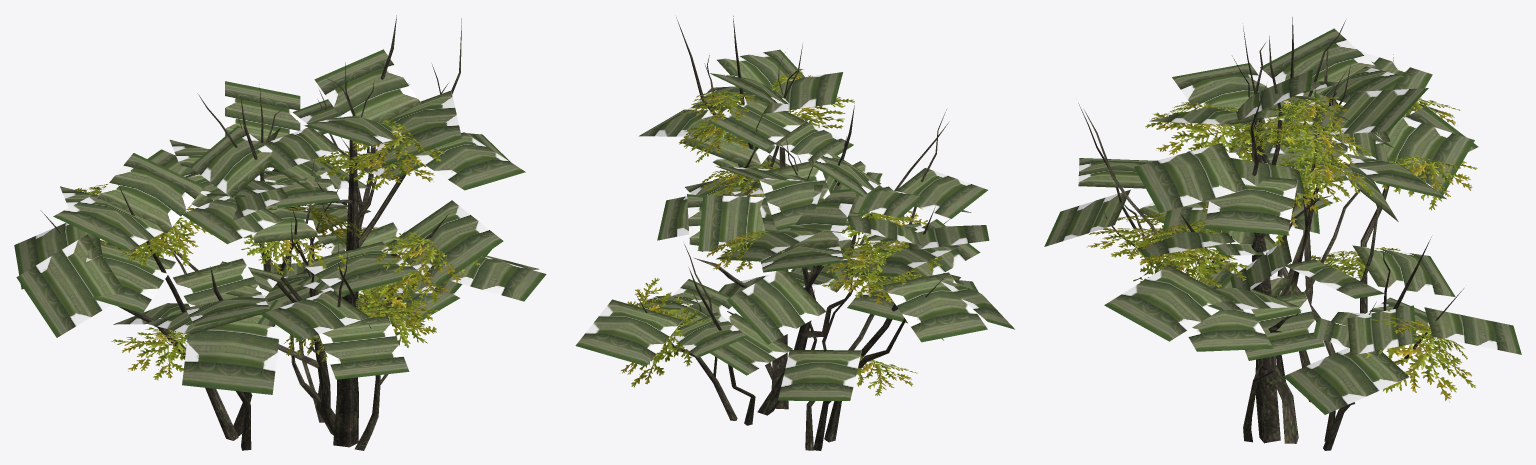
The model's file is S_Tree_Green018.FBX.
3 views of the same model, side by side, from view 1: azimuth 30°, elevation 25°; view 2: azimuth 150°, elevation 25°; view 3: azimuth 270°, elevation 25° (orthographic). The views are drawn at different scales.
Parts seen in each view (by area): view 1: S_Tree_Green018; view 2: S_Tree_Green018; view 3: S_Tree_Green018.
Boxes of the visible parts, bbox=[...] form: S_Tree_Green018: bbox=[14, 15, 546, 450]; S_Tree_Green018: bbox=[575, 16, 1014, 450]; S_Tree_Green018: bbox=[1044, 17, 1521, 450].
Size of the model in its own units: 812 by 740 by 743.
